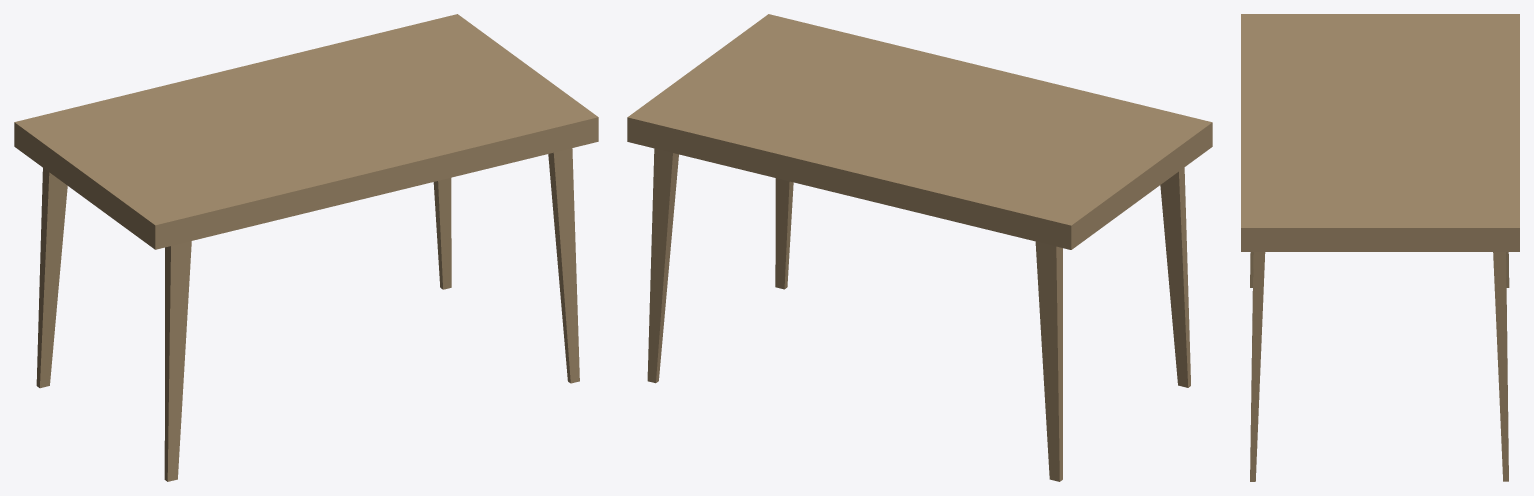
File: Table.fbx
The picture shows the model from 3 angles, left to right: view 1: azimuth 30°, elevation 25°; view 2: azimuth 150°, elevation 25°; view 3: azimuth 270°, elevation 25°; orthographic projection.
Visible parts, largest first — view 1: Table; view 2: Table; view 3: Table.
Boxes of the visible parts, x1,y1,x2,y2 form: Table: [14, 14, 598, 481]; Table: [627, 14, 1212, 481]; Table: [1241, 14, 1519, 481].
Size of the model in its own units: 200 by 114 by 110.
